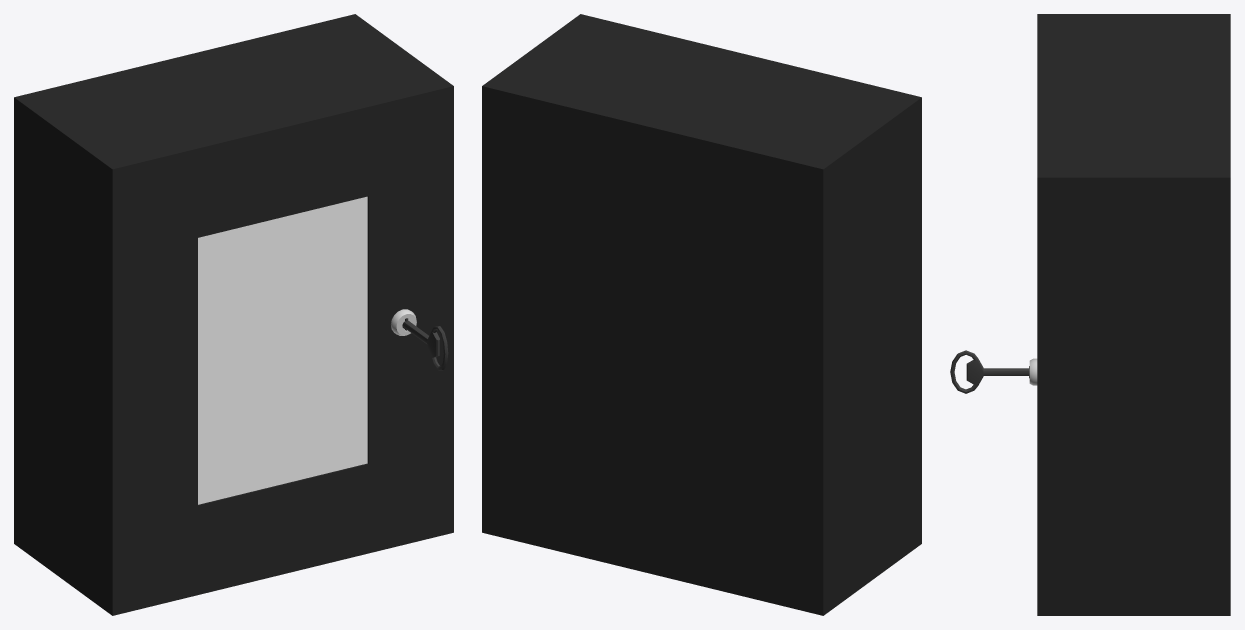
Rendered from BoxModelV9.FBX.
3 renders of one model, left to right at view 1: azimuth 30°, elevation 25°; view 2: azimuth 150°, elevation 25°; view 3: azimuth 270°, elevation 25°, orthographic.
Parts seen in each view (by area): view 1: Door, Box, Window, Key; view 2: Box, Door; view 3: Box, Door, Key.
Part boxes in pixels (box(x1,y1,x2,y2)): Door: box(102, 79, 453, 615); Box: box(14, 14, 443, 608); Window: box(198, 196, 367, 504); Key: box(402, 318, 448, 370); Box: box(482, 21, 911, 615); Door: box(571, 14, 921, 550); Box: box(1056, 14, 1230, 615); Door: box(1037, 14, 1056, 615); Key: box(950, 350, 1029, 393).
Bounding box in the file's own units: 40 × 50 × 28.99.
